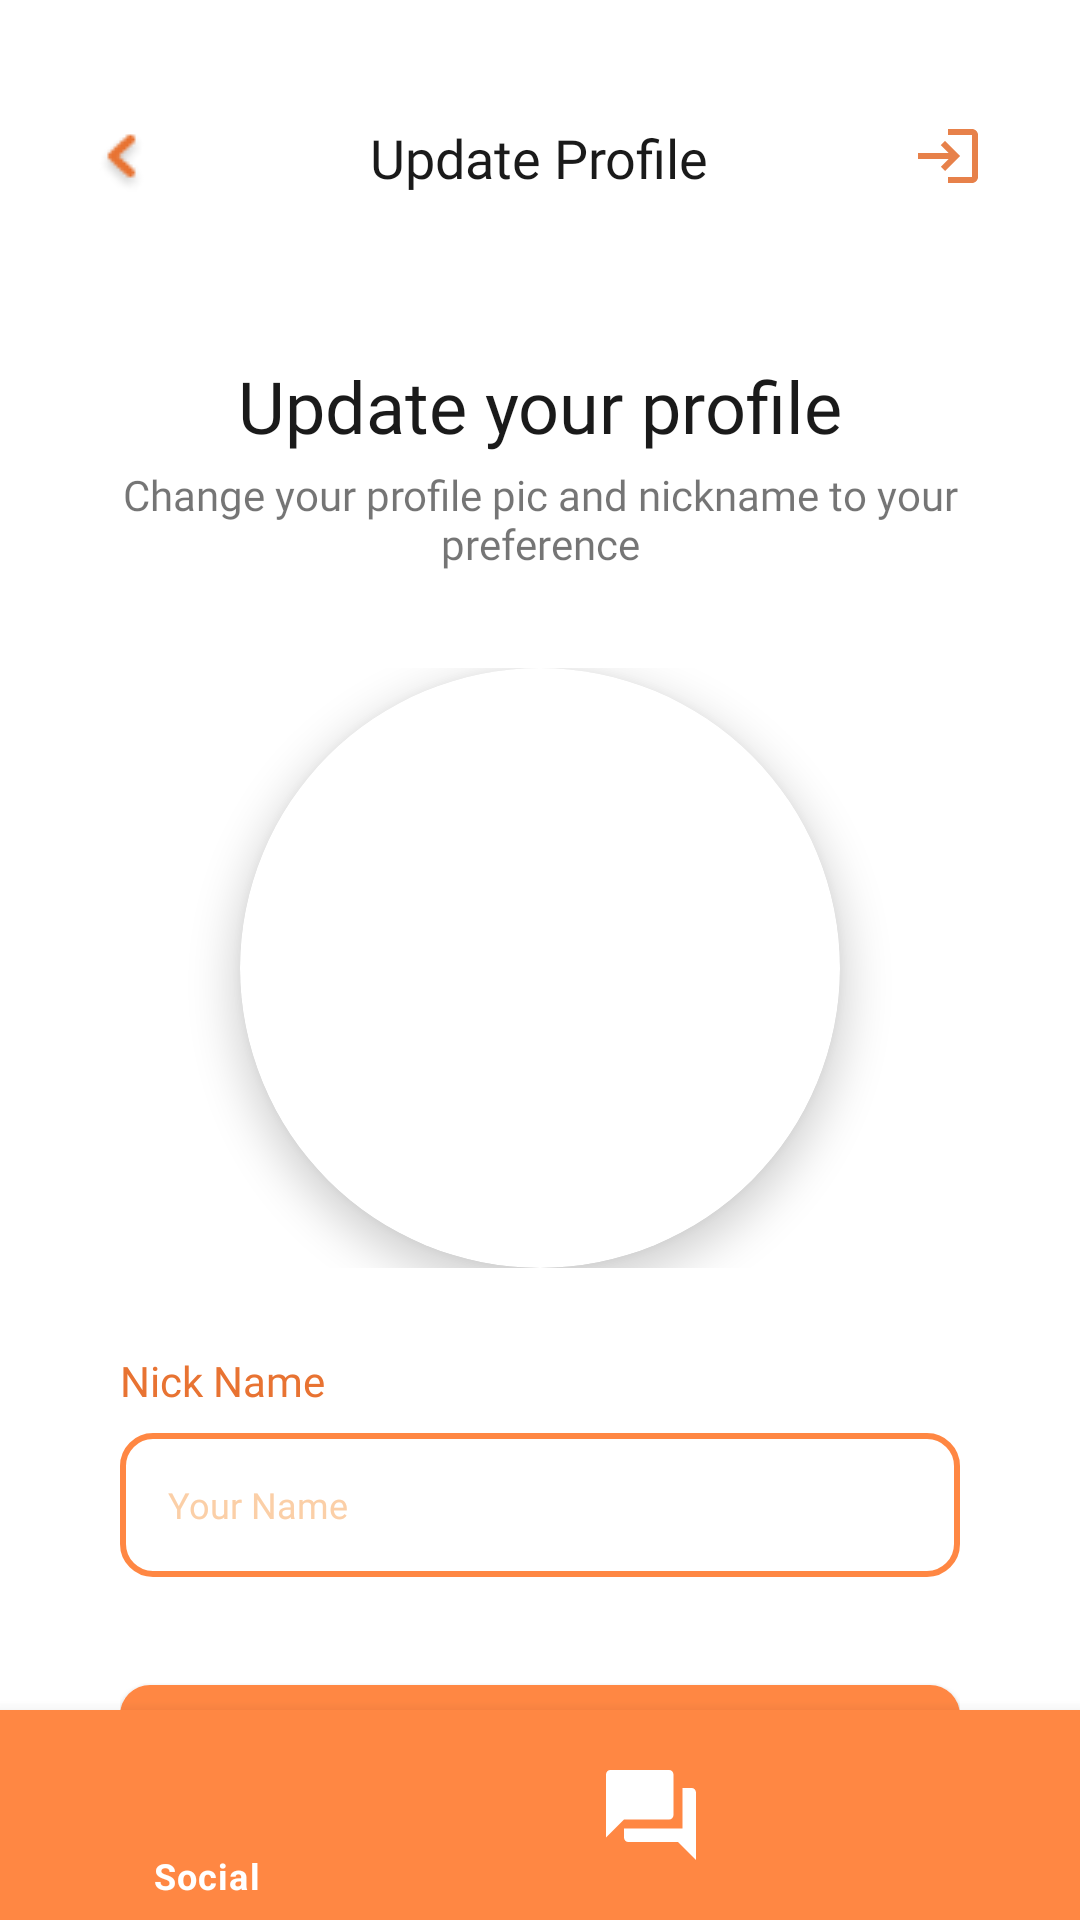

Named icons in this screenshot (1080x1920) and their bounding boxes, (x1, y1, x2, y2):
Back: (107, 134, 136, 180)
